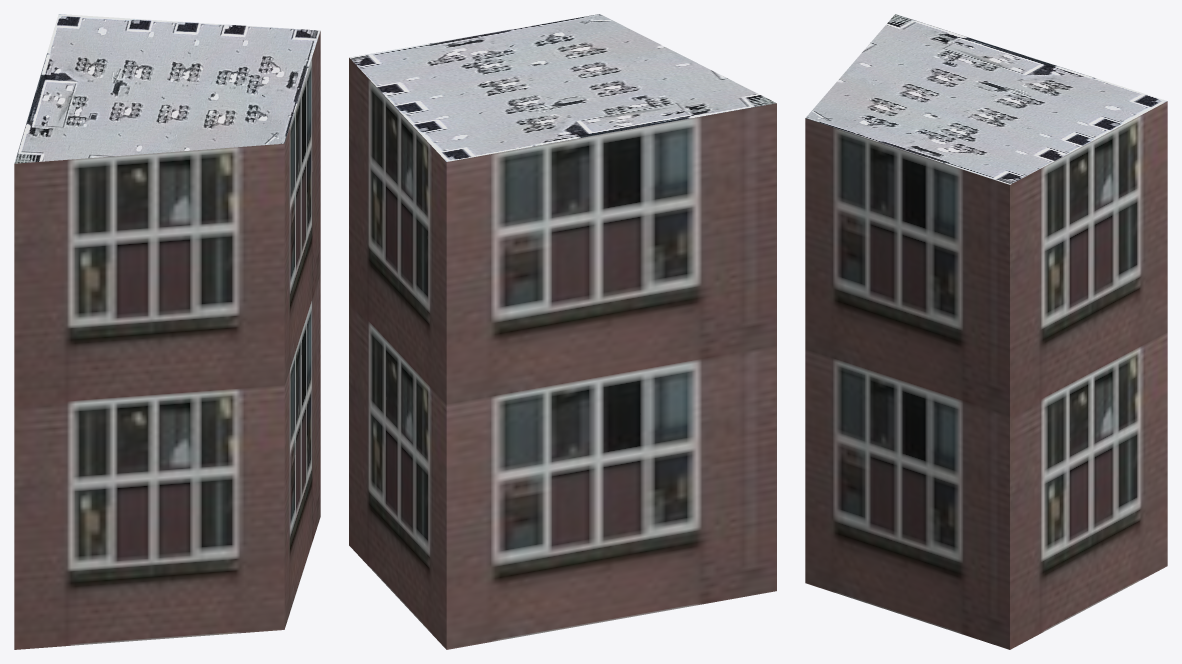
Rendered from ResTex__3120.fbx.
3 renders of one model, left to right at view 1: azimuth 30°, elevation 25°; view 2: azimuth 150°, elevation 25°; view 3: azimuth 270°, elevation 25°, orthographic. The views are drawn at different scales.
Visible parts, largest first — view 1: CityEngineMaterial_12_m, CityEngineMaterial_8_m; view 2: CityEngineMaterial_12_m, CityEngineMaterial_8_m; view 3: CityEngineMaterial_12_m, CityEngineMaterial_8_m.
Boxes of the visible parts, x1=… form: CityEngineMaterial_12_m: x1=14, y1=31, x2=320, y2=649; CityEngineMaterial_8_m: x1=14, y1=14, x2=320, y2=163; CityEngineMaterial_12_m: x1=349, y1=58, x2=776, y2=649; CityEngineMaterial_8_m: x1=349, y1=14, x2=776, y2=161; CityEngineMaterial_12_m: x1=805, y1=101, x2=1167, y2=649; CityEngineMaterial_8_m: x1=805, y1=14, x2=1167, y2=184.
Size of the model in its own units: 4.73 by 6 by 4.24.
2 materials, 2 textured.
